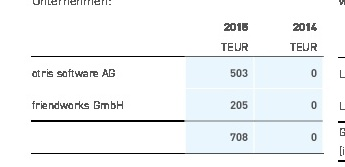table: (0, 0, 345, 167)
